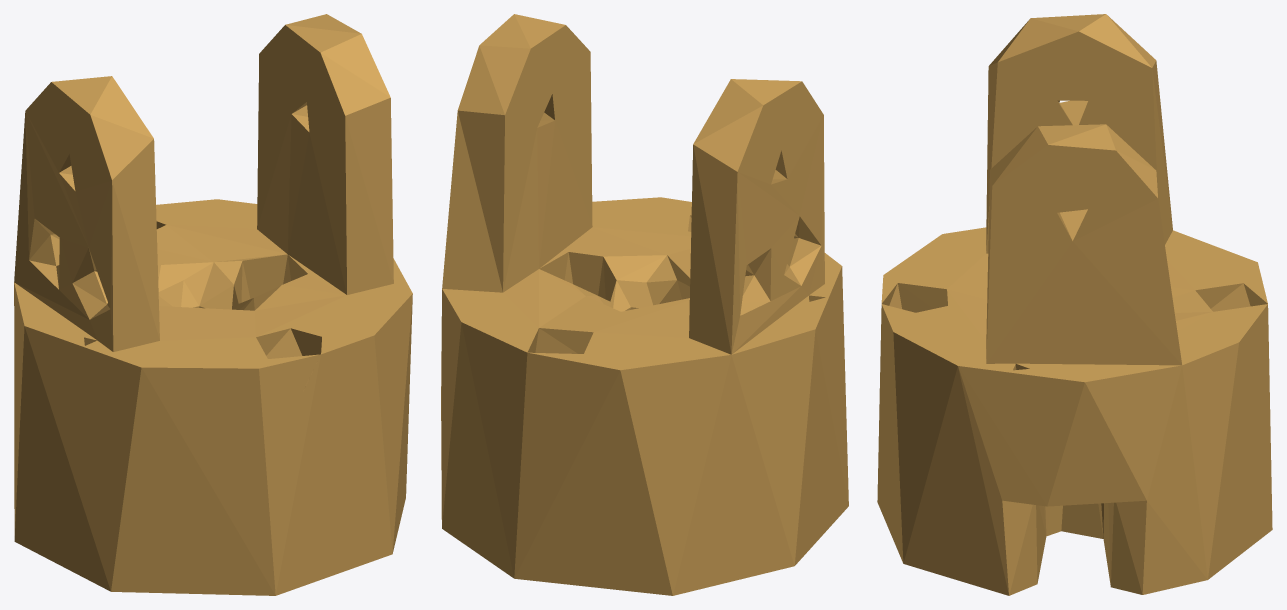
The model's file is ear_mount.dae.
3 renders of one model, left to right at view 1: azimuth 30°, elevation 25°; view 2: azimuth 150°, elevation 25°; view 3: azimuth 270°, elevation 25°, orthographic. The views are drawn at different scales.
Visible parts, largest first — view 1: simc_02_001_earstem_mount; view 2: simc_02_001_earstem_mount; view 3: simc_02_001_earstem_mount.
Part boxes in pixels (left/top/right/bottom): simc_02_001_earstem_mount: left=14, top=14, right=412, bottom=595; simc_02_001_earstem_mount: left=441, top=14, right=848, bottom=595; simc_02_001_earstem_mount: left=877, top=14, right=1272, bottom=595.
Size of the model in its own units: 0.023 by 0.0227 by 0.0281.
